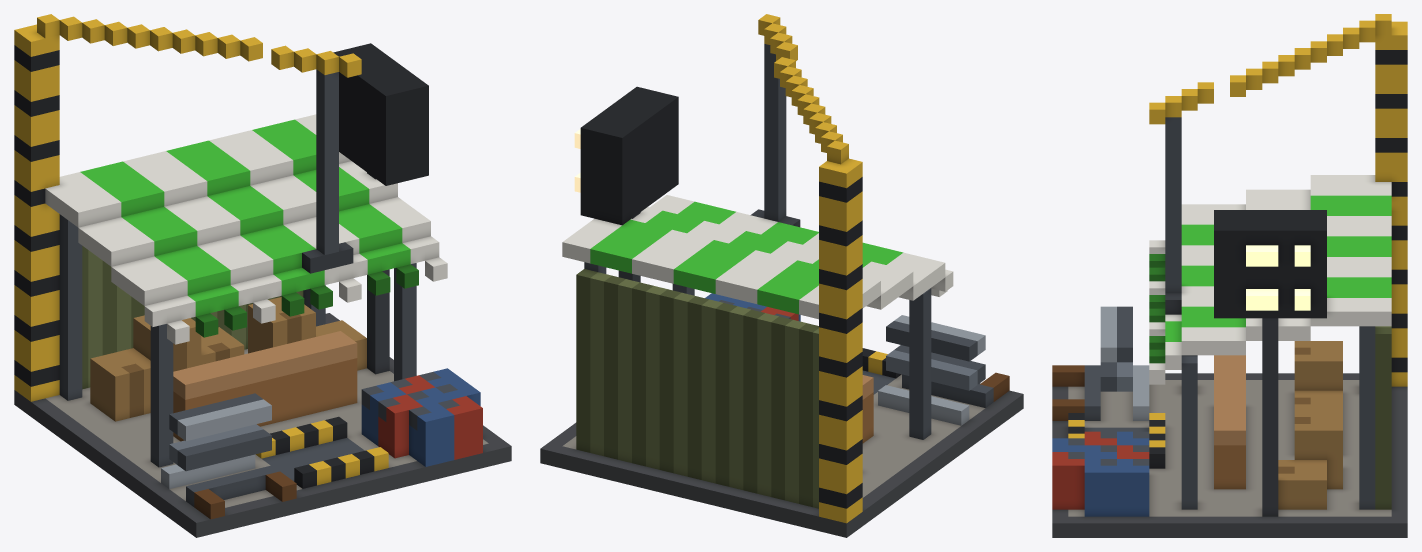
Rendered from cm_market_3.glb.
3 renders of one model, left to right at view 1: azimuth 30°, elevation 25°; view 2: azimuth 150°, elevation 25°; view 3: azimuth 270°, elevation 25°, orthographic. The views are drawn at different scales.
Parts seen in each view (by area): view 1: cm_market_3_body; view 2: cm_market_3_body; view 3: cm_market_3_body.
Part boxes in pixels (box(x1,y1,x2,y2)): cm_market_3_body: box(14, 14, 511, 537); cm_market_3_body: box(540, 14, 1023, 537); cm_market_3_body: box(1052, 14, 1407, 537).
Bounding box in the file's own units: 1.44 × 1.62 × 1.38.
Materials: 1 (1 with a texture image).
